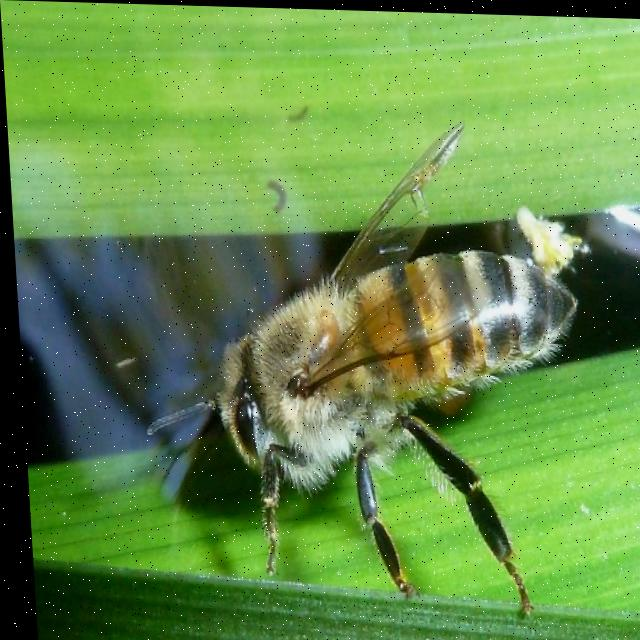Apis-mellifera-scutellata: (131, 118, 599, 631)
